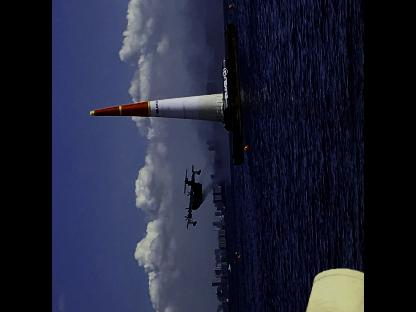Tu95: (184, 163, 202, 227)
